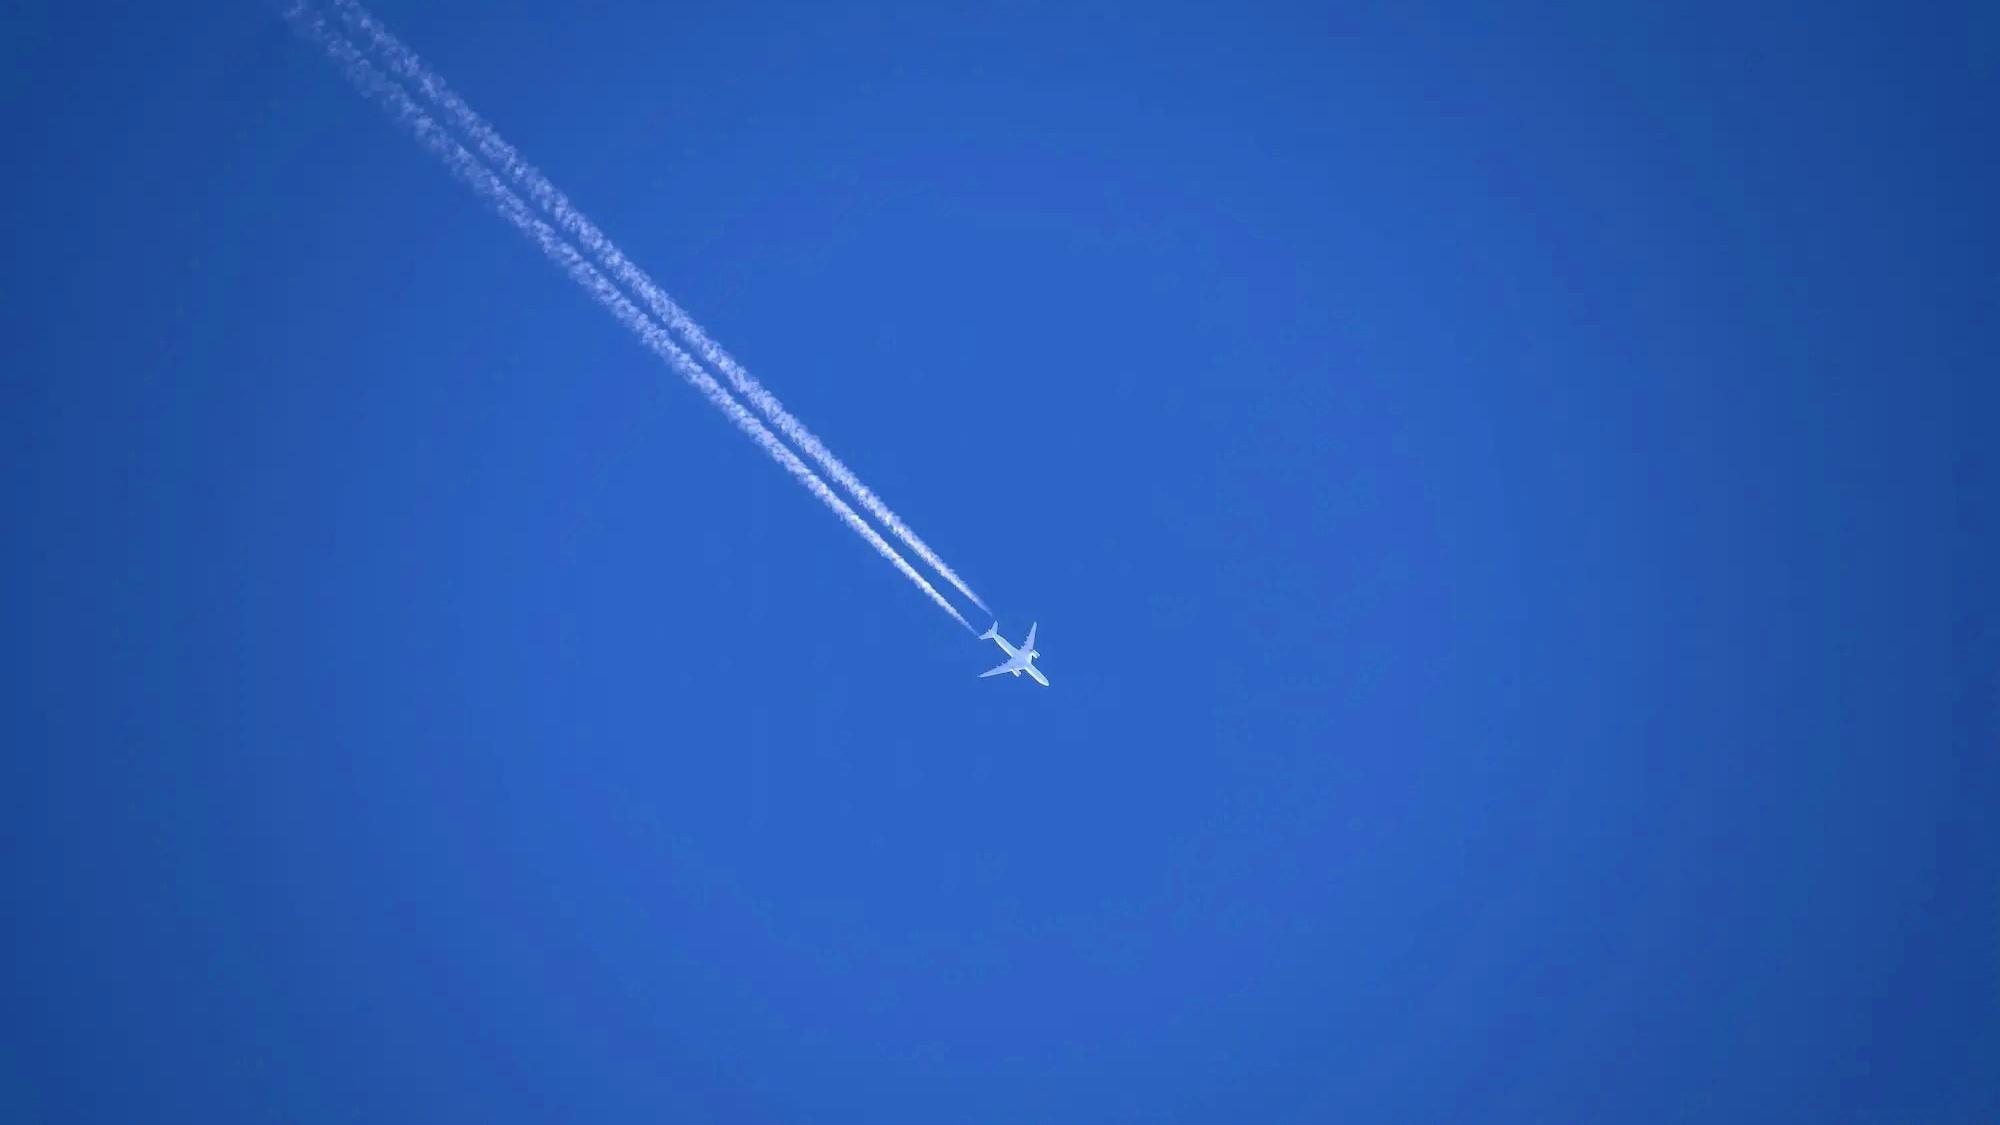Plane: (543, 257, 1128, 687)
